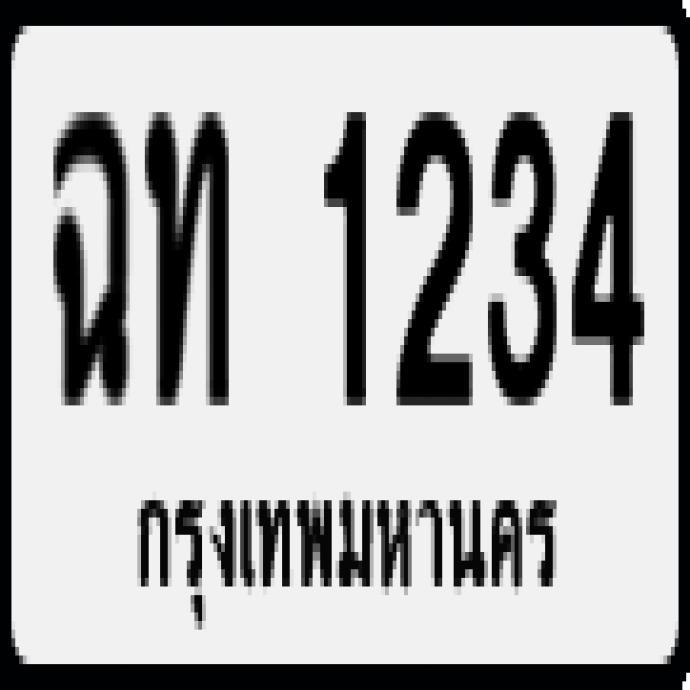1: (319, 101, 364, 398)
2: (390, 102, 469, 397)
3: (482, 102, 552, 397)
4: (567, 99, 639, 398)
A09: (48, 101, 126, 398)
A23: (141, 101, 224, 396)
BKK: (120, 463, 571, 636)
